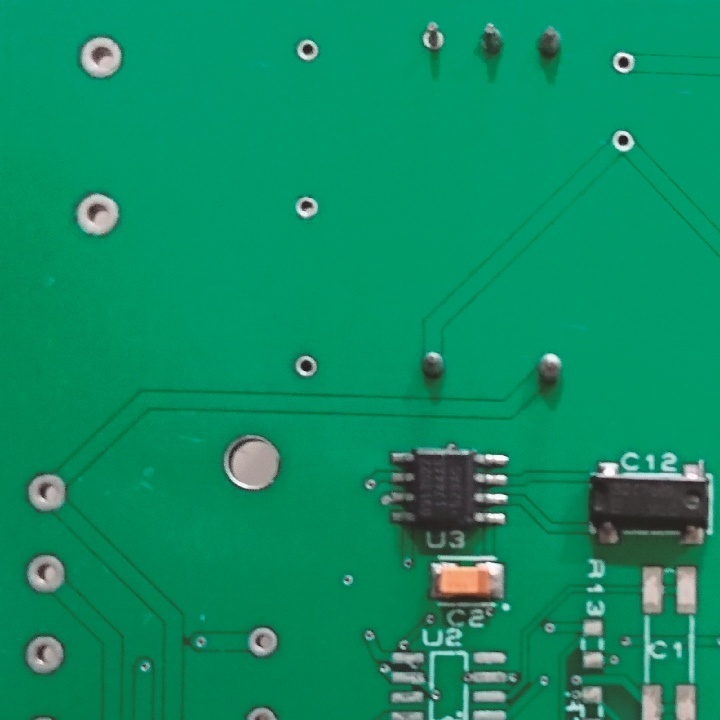F: (72, 190, 123, 239), (78, 33, 125, 86), (22, 471, 71, 516), (22, 634, 67, 678), (24, 553, 65, 595), (247, 623, 283, 662), (290, 192, 323, 225), (419, 21, 447, 52), (290, 351, 318, 381), (296, 35, 324, 63), (610, 48, 637, 77), (612, 125, 636, 157), (241, 703, 284, 720)
